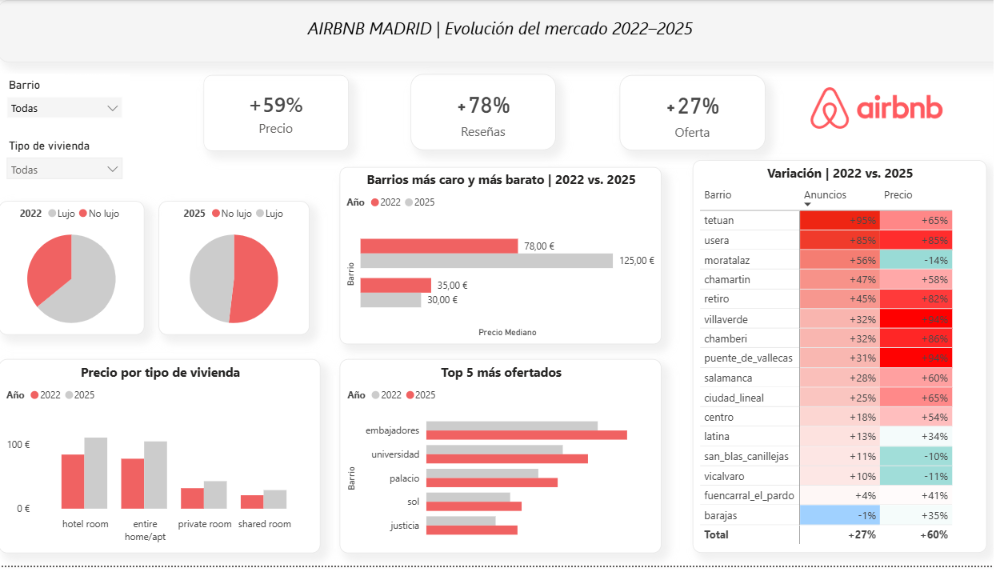

Layout of this report page (visuals, bound fields, positions):
{"tool":"powerbi","page":{"name":"Comparativa 2022 vs 2025","canvas":[1280,720],"ordinal":0},"visuals":[{"type":"pivotTable","title":"Evolución del Mercado","fields":{"Rows":["airbnb.neighbourhood_group_cleansed"],"Values":["airbnb.Delta Anuncios %","airbnb.Variación % Demanda","airbnb.Variación % Mediana"]},"box":[8.6,288.6,332.6,431.7],"z":0},{"type":"slicer","fields":{"Values":["airbnb.room_type"]},"box":[0,198.1,283.7,69.7],"z":1000},{"type":"card","fields":{"Values":["airbnb.Demanda 2025"]},"box":[639.5,2.7,154.7,85.1],"z":2000,"group":"g2"},{"type":"clusteredBarChart","title":"Barrio más barato vs barrio más caro (2022 / 2025)","fields":{"Category":["airbnb.neighbourhood_group_cleansed"],"Series":["airbnb.year"],"Y":["airbnb.Mediana Precio (ctx)"]},"box":[677.4,113.7,386.4,292.3],"z":2000},{"type":"card","fields":{"Values":["airbnb.Mediana 2025"]},"box":[292.3,2.4,167.9,85.1],"z":3000,"group":"g1"},{"type":"card","fields":{"Values":["airbnb.Variación % Demanda"]},"box":[793.6,2.4,152.3,85.6],"z":3000,"group":"g2"},{"type":"clusteredBarChart","title":"Top 5 más ofertados","fields":{"Category":["airbnb.neighbourhood_cleansed"],"Series":["airbnb.year"],"Y":["airbnb.Anuncios"]},"box":[365.6,430.4,452.4,273.9],"z":3000},{"type":"card","fields":{"Values":["airbnb.Variación %"]},"box":[460.2,2.4,164.9,85.1],"z":4000,"group":"g1"},{"type":"card","fields":{"Values":["airbnb.Anuncios 2025"]},"box":[964.8,2.4,152.9,85.6],"z":4000,"group":"g3"},{"type":"clusteredColumnChart","title":"Precio por tipo de vivienda","fields":{"Category":["airbnb.room_type"],"Series":["airbnb.year"],"Y":["airbnb.Mediana Precio"]},"box":[836.4,430.4,434.1,273.9],"z":4000},{"type":"card","fields":{"Values":["airbnb.Delta Anuncios %"]},"box":[1117.7,2.4,152.9,85.6],"z":5000,"group":"g3"},{"type":"clusteredColumnChart","title":"Barrios más reseñados (2022 / 2025)","fields":{"Category":["airbnb.neighbourhood_group_cleansed"],"Series":["airbnb.year"],"Y":["airbnb.Demanda ltm"]},"box":[365.6,113.7,311.8,292.3],"z":5000},{"type":"slicer","title":"Barrios","fields":{"Values":["airbnb.neighbourhood_group_cleansed"]},"box":[1.2,113.7,282.5,73.4],"z":6000},{"type":"pieChart","fields":{"Category":["airbnb.Lux Label"],"Y":["airbnb.Demanda 2025"]},"box":[1063.9,260.5,216.4,145.5],"z":7000},{"type":"pieChart","fields":{"Category":["airbnb.Lux Label"],"Y":["airbnb.Demanda 2022"]},"box":[1063.9,113.7,216.4,146.7],"z":8000},{"type":"group","id":"g1","title":"Grupo 1","box":[292.3,2.4,332.6,85.6],"z":9000},{"type":"group","id":"g2","title":"Grupo 2","box":[639.5,2.4,306.9,85.6],"z":10000},{"type":"group","id":"g3","title":"Grupo 3","box":[964.8,2.4,305.7,85.6],"z":11000},{"type":"textbox","box":[0,2.4,283.7,83.2],"z":12000}]}

Visuals, with their boxes in screenshot pixels (x1, y1, x2, y2), scaled from the page's 1280x720 canvas onto the 994x570 screenshot:
"Evolución del Mercado" pivotTable: {"x1": 7, "y1": 228, "x2": 265, "y2": 569}
slicer - airbnb.room_type: {"x1": 0, "y1": 157, "x2": 220, "y2": 212}
card - airbnb.Demanda 2025: {"x1": 497, "y1": 2, "x2": 617, "y2": 70}
"Barrio más barato vs barrio más caro (2022 / 2025)" clusteredBarChart: {"x1": 526, "y1": 90, "x2": 826, "y2": 321}
card - airbnb.Mediana 2025: {"x1": 227, "y1": 2, "x2": 357, "y2": 69}
card - airbnb.Variación % Demanda: {"x1": 616, "y1": 2, "x2": 735, "y2": 70}
"Top 5 más ofertados" clusteredBarChart: {"x1": 284, "y1": 341, "x2": 635, "y2": 558}
card - airbnb.Variación %: {"x1": 357, "y1": 2, "x2": 485, "y2": 69}
card - airbnb.Anuncios 2025: {"x1": 749, "y1": 2, "x2": 868, "y2": 70}
"Precio por tipo de vivienda" clusteredColumnChart: {"x1": 650, "y1": 341, "x2": 987, "y2": 558}
card - airbnb.Delta Anuncios %: {"x1": 868, "y1": 2, "x2": 987, "y2": 70}
"Barrios más reseñados (2022 / 2025)" clusteredColumnChart: {"x1": 284, "y1": 90, "x2": 526, "y2": 321}
"Barrios" slicer: {"x1": 1, "y1": 90, "x2": 220, "y2": 148}
pieChart - airbnb.Lux Label x airbnb.Demanda 2025: {"x1": 826, "y1": 206, "x2": 993, "y2": 321}
pieChart - airbnb.Lux Label x airbnb.Demanda 2022: {"x1": 826, "y1": 90, "x2": 993, "y2": 206}
"Grupo 1" group: {"x1": 227, "y1": 2, "x2": 485, "y2": 70}
"Grupo 2" group: {"x1": 497, "y1": 2, "x2": 735, "y2": 70}
"Grupo 3" group: {"x1": 749, "y1": 2, "x2": 987, "y2": 70}
textbox: {"x1": 0, "y1": 2, "x2": 220, "y2": 68}
